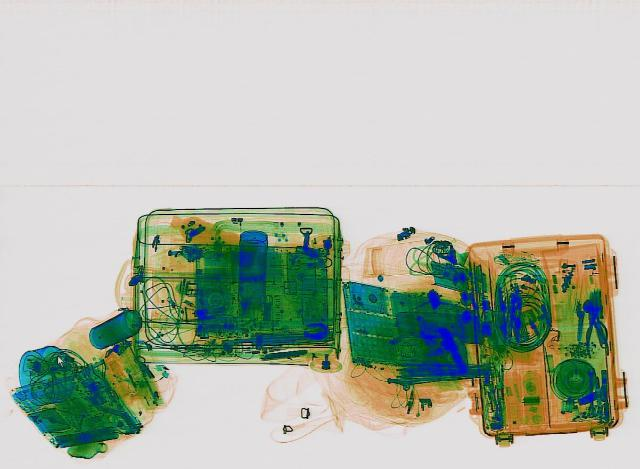Pliers: (576, 297, 612, 350), (578, 308, 610, 356)
Wrench: (584, 366, 596, 413)
